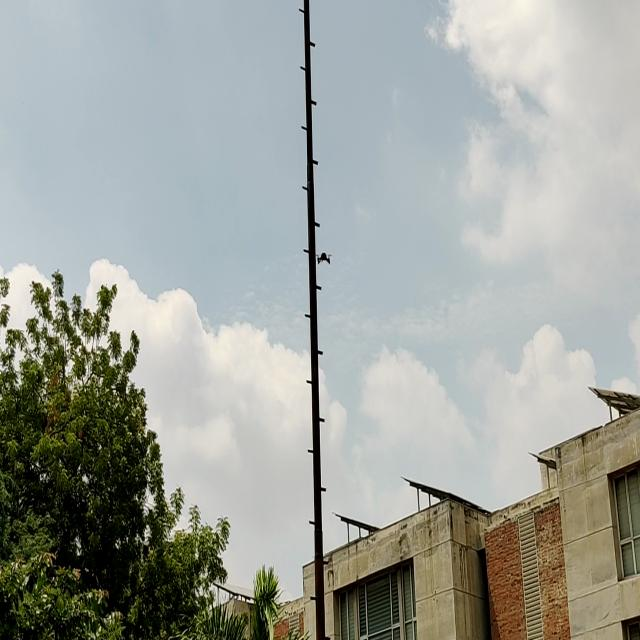drone: (317, 245, 332, 272)
